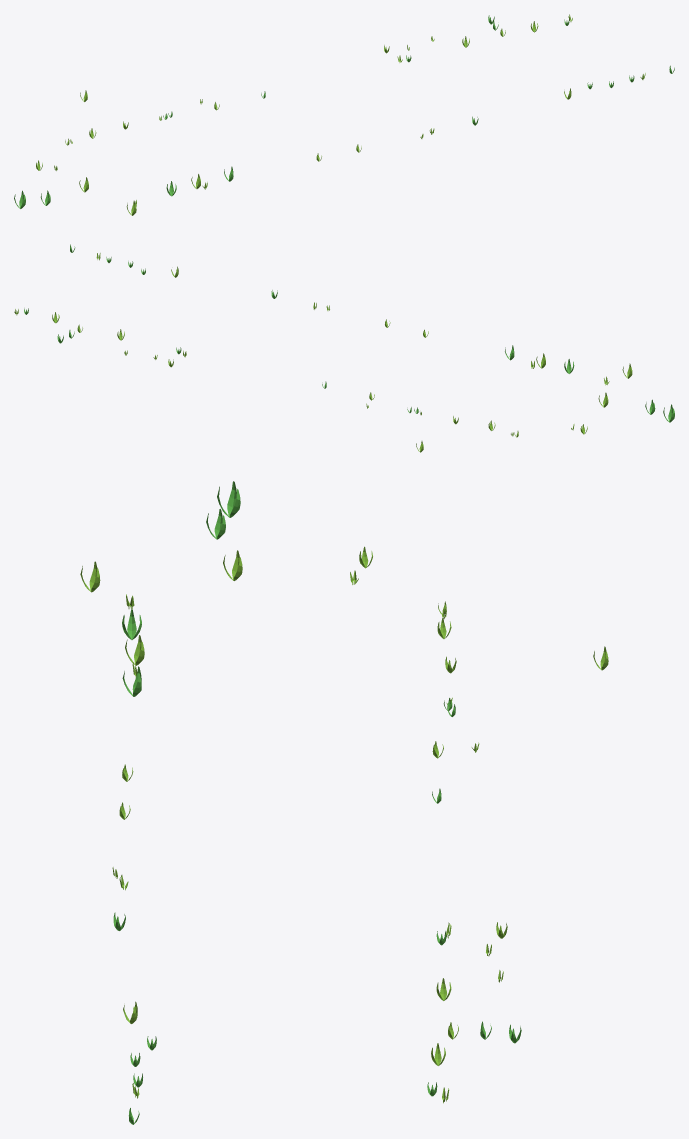
The model's file is trava.glb.
3 views of the same model, one above another, from view 1: azimuth 30°, elevation 25°; view 2: azimuth 150°, elevation 25°; view 3: azimuth 270°, elevation 25° (orthographic). The views are drawn at different scales.
Bounding box in the file's own units: 127 × 3.6 × 45.95.
